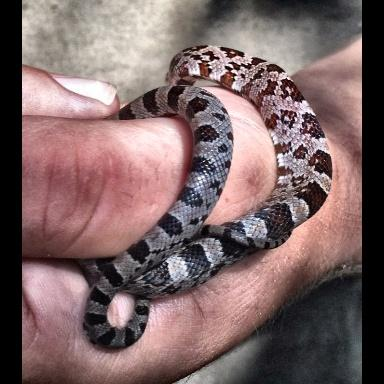snake: (82, 47, 334, 353)
